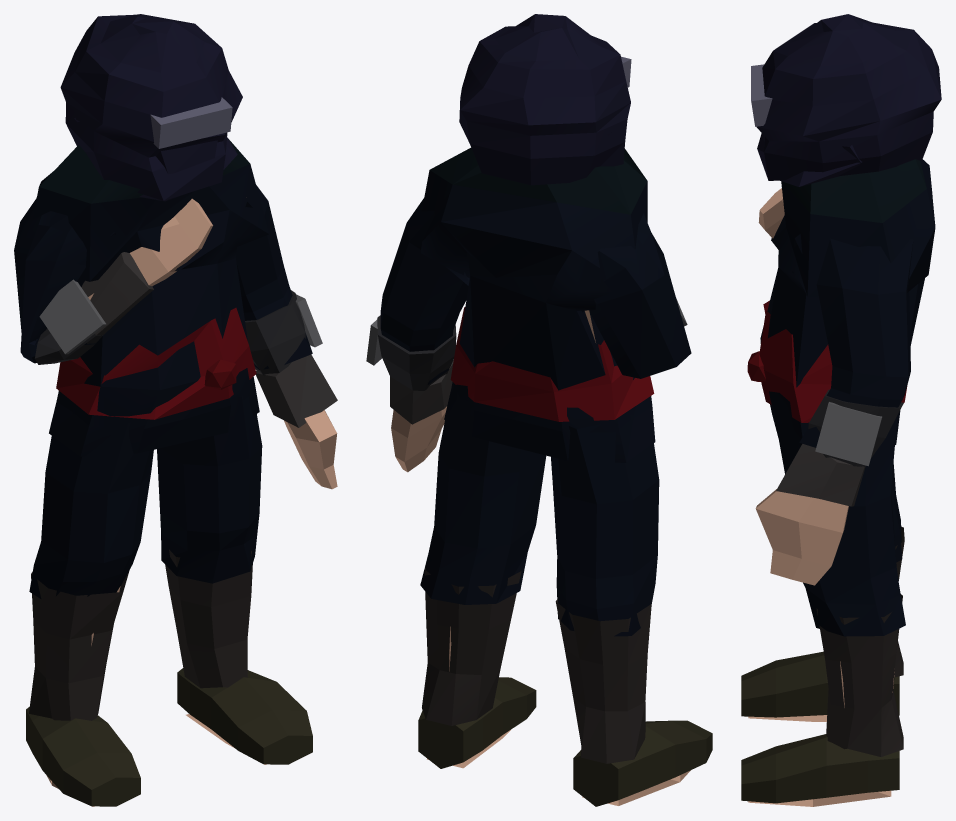
File: ninja.glb
3 renders of one model, left to right at view 1: azimuth 30°, elevation 25°; view 2: azimuth 150°, elevation 25°; view 3: azimuth 270°, elevation 25°, orthographic. The views are drawn at different scales.
Parts seen in each view (by area): view 1: gear: cloth suit still, gear: hood and mask still, gear: shin wraps still, gear: split-toe boots still, gear: forearm guards still, gear: sash still, body still; view 2: gear: cloth suit still, gear: hood and mask still, gear: shin wraps still, gear: split-toe boots still, gear: sash still, gear: forearm guards still, body still; view 3: gear: cloth suit still, gear: hood and mask still, gear: split-toe boots still, gear: shin wraps still, body still, gear: forearm guards still, gear: sash still.
Boxes of the visible parts, x1=… form: gear: cloth suit still: x1=14, y1=138, x2=312, y2=598; gear: hood and mask still: x1=60, y1=14, x2=242, y2=201; gear: shin wraps still: x1=29, y1=549, x2=252, y2=720; gear: split-toe boots still: x1=26, y1=668, x2=312, y2=806; gear: forearm guards still: x1=35, y1=252, x2=337, y2=427; gear: sash still: x1=56, y1=307, x2=256, y2=419; body still: x1=46, y1=198, x2=337, y2=806; gear: cloth suit still: x1=380, y1=148, x2=691, y2=636; gear: hood and mask still: x1=459, y1=14, x2=631, y2=185; gear: shin wraps still: x1=422, y1=568, x2=651, y2=763; gear: split-toe boots still: x1=418, y1=677, x2=712, y2=806; gear: sash still: x1=450, y1=307, x2=654, y2=421; gear: forearm guards still: x1=366, y1=298, x2=687, y2=424; body still: x1=391, y1=310, x2=690, y2=805; gear: cloth suit still: x1=760, y1=159, x2=935, y2=636; gear: hood and mask still: x1=751, y1=14, x2=941, y2=186; gear: split-toe boots still: x1=741, y1=651, x2=899, y2=803; gear: shin wraps still: x1=816, y1=526, x2=904, y2=756; body still: x1=748, y1=188, x2=894, y2=806; gear: forearm guards still: x1=776, y1=389, x2=903, y2=506; gear: sash still: x1=747, y1=300, x2=907, y2=422.
Size of the model in its own units: 0.7528 by 1.75 by 0.4339.
